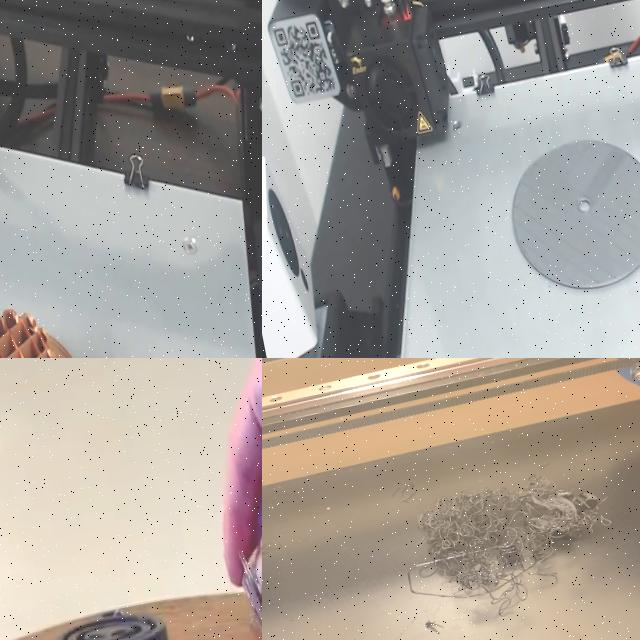spaghetti: (411, 480, 613, 624), (377, 474, 433, 516), (407, 613, 454, 640), (262, 534, 297, 561)
